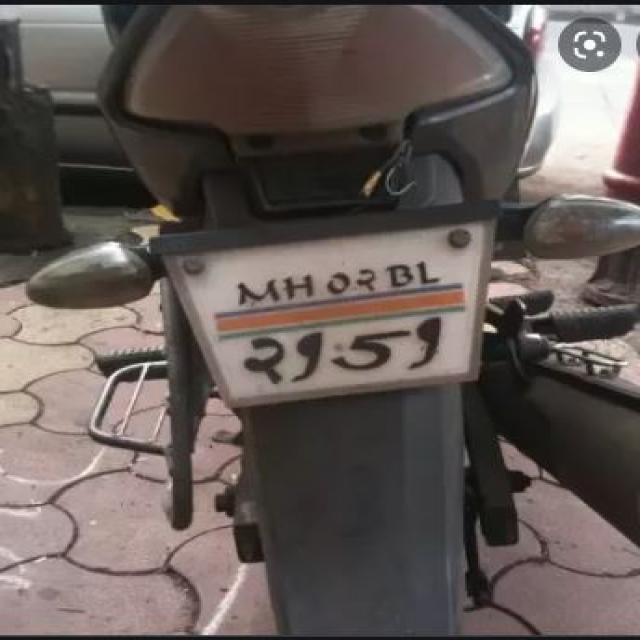license_plate: (187, 258, 480, 387)
